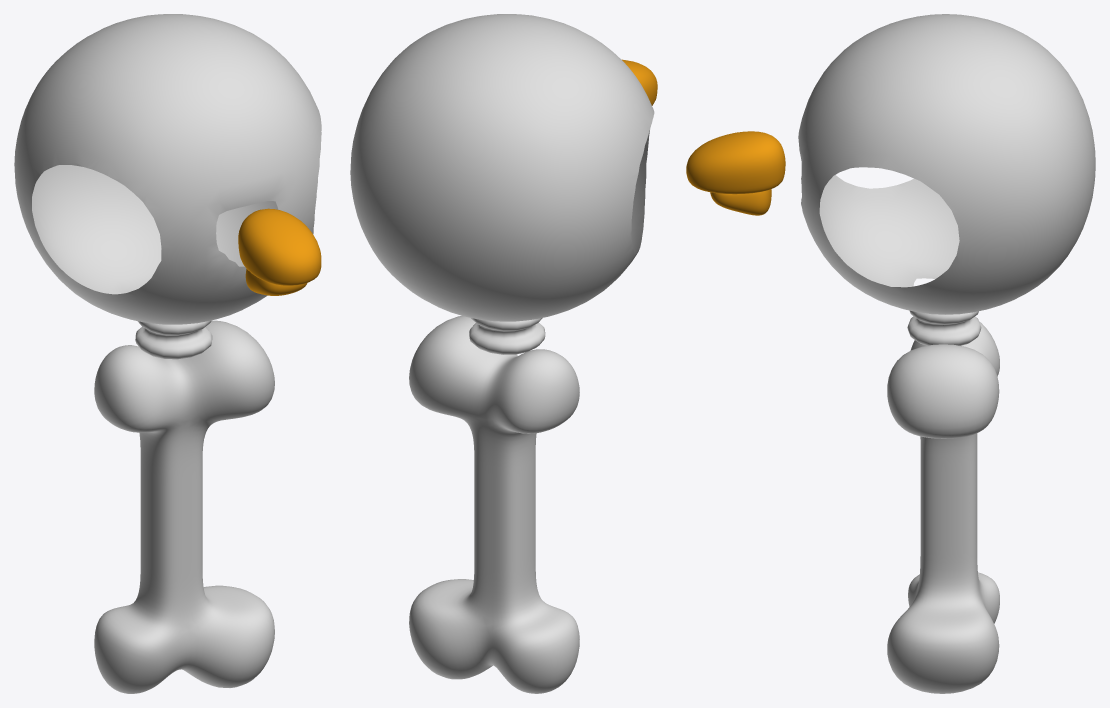
File: PIGEON skeleton.glb
3 renders of one model, left to right at view 1: azimuth 30°, elevation 25°; view 2: azimuth 150°, elevation 25°; view 3: azimuth 270°, elevation 25°, orthographic. The views are drawn at different scales.
Visible parts, largest first — view 1: Skeleton.002, Bone Big, beaktop.001, Bone small, beak bottom.001; view 2: Skeleton.002, Bone Big, Bone small, beaktop.001; view 3: Skeleton.002, Bone Big, beaktop.001, Bone small, beak bottom.001.
Part boxes in pixels (<box>): Skeleton.002: <box>14,14,321,324</box>; Bone Big: <box>94,320,274,693</box>; beaktop.001: <box>238,208,321,285</box>; Bone small: <box>135,320,212,359</box>; beak bottom.001: <box>245,269,307,295</box>; Skeleton.002: <box>350,14,654,321</box>; Bone Big: <box>409,316,579,693</box>; Bone small: <box>469,318,545,354</box>; beaktop.001: <box>622,59,657,105</box>; Skeleton.002: <box>798,14,1095,314</box>; Bone Big: <box>887,321,999,693</box>; beaktop.001: <box>686,131,785,194</box>; Bone small: <box>907,310,981,345</box>; beak bottom.001: <box>710,189,771,215</box>.
Size of the model in its own units: 1.41 by 3.32 by 1.93.
